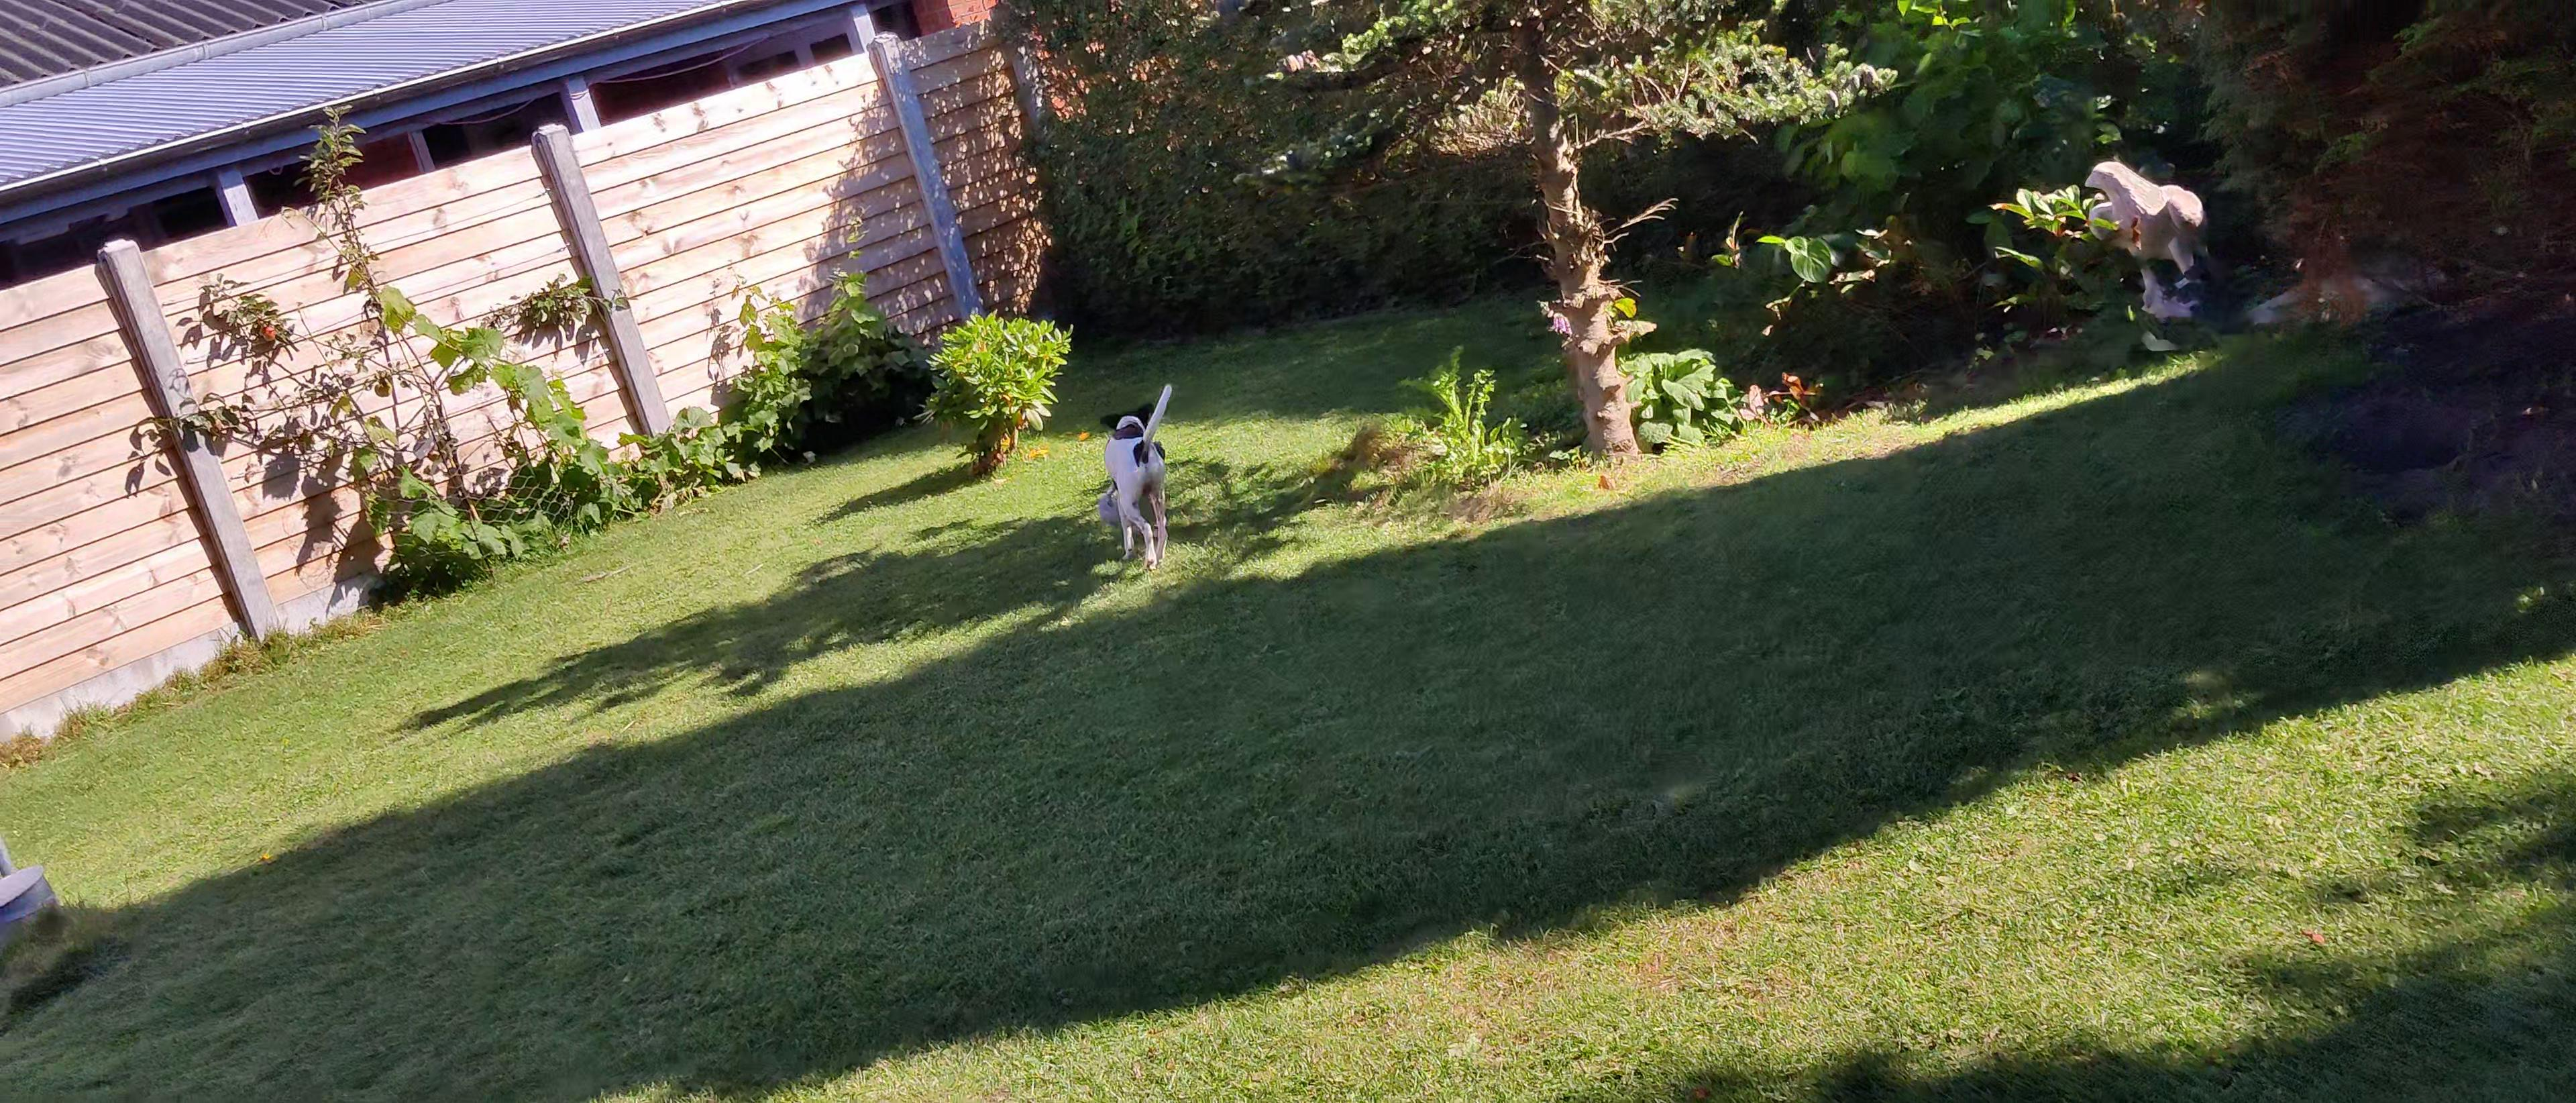Dog: (1097, 373, 1191, 574)
